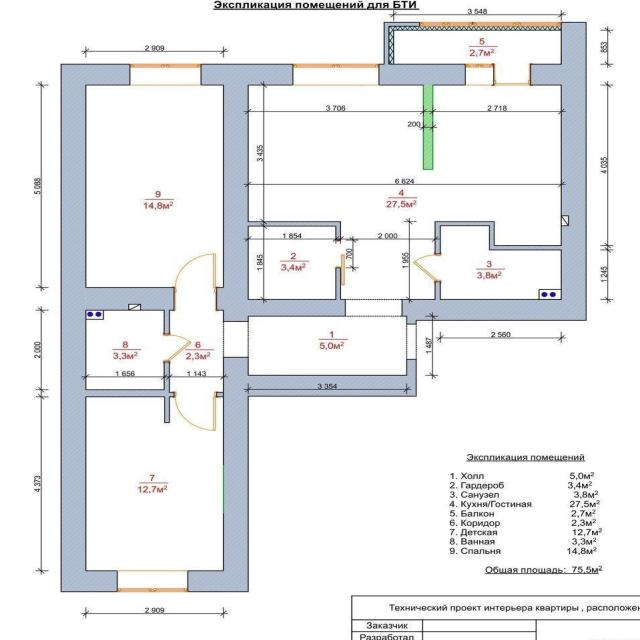Bathrooms: (440, 226, 561, 299), (86, 310, 162, 389)
Corridors: (249, 317, 405, 375), (249, 227, 336, 298), (395, 31, 561, 63), (170, 311, 221, 391)
Doors: (174, 253, 215, 311), (172, 391, 218, 433), (345, 299, 401, 318), (162, 333, 194, 364), (222, 321, 248, 358), (412, 253, 442, 282), (495, 64, 531, 85), (334, 239, 346, 286), (406, 324, 417, 359)
LBwalls: (59, 63, 176, 592), (402, 21, 587, 321), (188, 356, 417, 592), (201, 63, 346, 323), (379, 64, 466, 86), (423, 86, 433, 170)
Offices: (249, 86, 561, 298), (88, 85, 223, 287), (86, 397, 223, 571)
Walls: (383, 22, 562, 65), (86, 361, 176, 423), (435, 220, 561, 254), (248, 221, 342, 240), (335, 268, 341, 300), (406, 359, 416, 375), (435, 282, 441, 300), (165, 310, 169, 335), (406, 320, 417, 325), (216, 391, 224, 397)
Windows: (293, 64, 379, 86), (116, 569, 188, 592), (130, 63, 201, 86), (420, 22, 561, 27), (466, 64, 492, 86)
